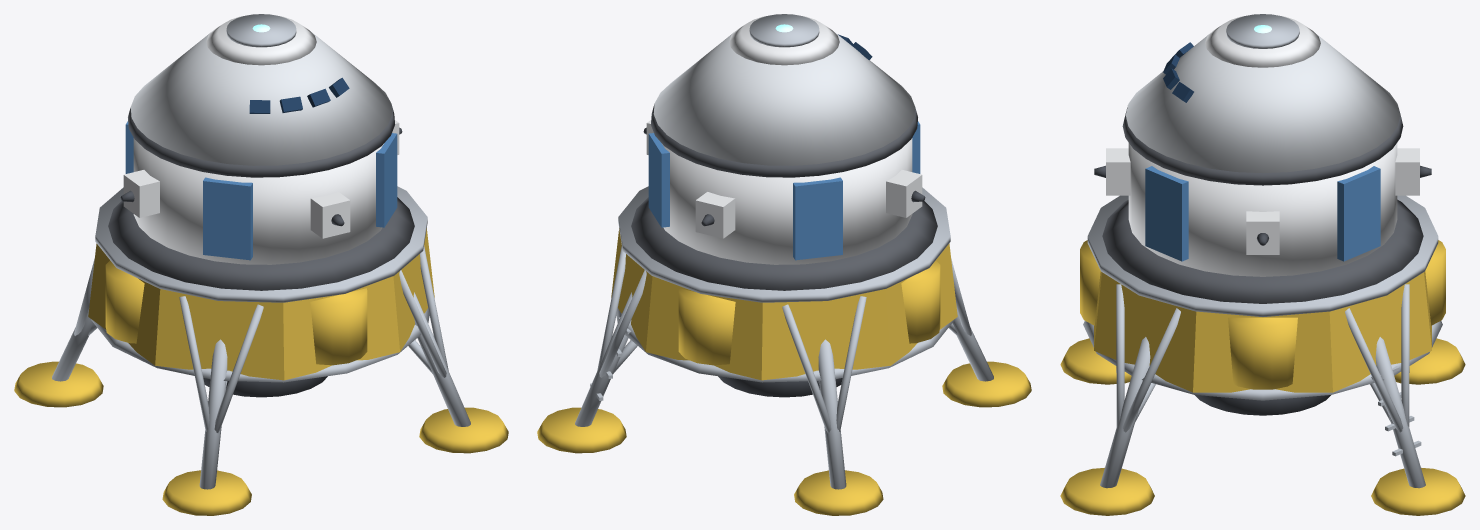
File: OrionLander.glb
3 views of the same model, side by side, from view 1: azimuth 30°, elevation 25°; view 2: azimuth 150°, elevation 25°; view 3: azimuth 270°, elevation 25° (orthographic). The views are drawn at different scales.
Parts seen in each view (by area): view 1: Orion_Crew_Module, Descent_Stage_Octagon, Orion_Service_Module, Orion_Descent_Adapter, Descent_Upper_Deck, Orion_ESM_Radiator_3, Descent_Propellant_Tank_4, Orion_Heatshield, Landing_Footpad_3, Landing_Footpad_4, Landing_Footpad_2, Orion_Forward_Bay (+14 smaller); view 2: Orion_Crew_Module, Descent_Stage_Octagon, Orion_Service_Module, Orion_Descent_Adapter, Descent_Upper_Deck, Orion_ESM_Radiator_2, Descent_Propellant_Tank_2, Orion_Heatshield, Landing_Footpad_2, Landing_Footpad_1, Landing_Footpad_3, Orion_Forward_Bay (+14 smaller); view 3: Orion_Crew_Module, Descent_Stage_Octagon, Orion_Service_Module, Orion_Descent_Adapter, Descent_Upper_Deck, Descent_Propellant_Tank_1, Orion_Heatshield, Orion_ESM_Radiator_1, Orion_ESM_Radiator_4, Landing_Footpad_1, Landing_Footpad_4, Orion_Forward_Bay (+16 smaller).
Part boxes in pixels (bbox=[...]): Orion_Crew_Module: bbox=[130, 31, 392, 165]; Descent_Stage_Octagon: bbox=[88, 228, 434, 380]; Orion_Service_Module: bbox=[133, 138, 383, 264]; Orion_Descent_Adapter: bbox=[108, 197, 414, 290]; Descent_Upper_Deck: bbox=[95, 186, 427, 302]; Orion_ESM_Radiator_3: bbox=[203, 177, 252, 260]; Descent_Propellant_Tank_4: bbox=[310, 288, 367, 365]; Orion_Heatshield: bbox=[128, 104, 394, 177]; Landing_Footpad_3: bbox=[162, 470, 251, 515]; Landing_Footpad_4: bbox=[419, 407, 508, 453]; Landing_Footpad_2: bbox=[14, 361, 103, 407]; Orion_Forward_Bay: bbox=[206, 16, 316, 65]; Orion_Crew_Module: bbox=[653, 31, 915, 165]; Descent_Stage_Octagon: bbox=[611, 228, 957, 380]; Orion_Service_Module: bbox=[662, 138, 912, 264]; Orion_Descent_Adapter: bbox=[631, 197, 937, 290]; Descent_Upper_Deck: bbox=[618, 186, 950, 302]; Orion_ESM_Radiator_2: bbox=[793, 177, 842, 260]; Descent_Propellant_Tank_2: bbox=[678, 288, 735, 365]; Orion_Heatshield: bbox=[651, 104, 917, 177]; Landing_Footpad_2: bbox=[794, 470, 883, 515]; Landing_Footpad_1: bbox=[537, 407, 626, 453]; Landing_Footpad_3: bbox=[942, 361, 1031, 407]; Orion_Forward_Bay: bbox=[729, 16, 839, 65]; Orion_Crew_Module: bbox=[1125, 33, 1400, 173]; Descent_Stage_Octagon: bbox=[1094, 271, 1431, 392]; Orion_Service_Module: bbox=[1128, 143, 1397, 276]; Orion_Descent_Adapter: bbox=[1102, 199, 1423, 303]; Descent_Upper_Deck: bbox=[1087, 195, 1438, 316]; Descent_Propellant_Tank_1: bbox=[1228, 317, 1297, 389]; Orion_Heatshield: bbox=[1122, 107, 1403, 185]; Orion_ESM_Radiator_1: bbox=[1337, 166, 1380, 261]; Orion_ESM_Radiator_4: bbox=[1145, 166, 1188, 261]; Landing_Footpad_1: bbox=[1371, 467, 1465, 515]; Landing_Footpad_4: bbox=[1060, 467, 1154, 515]; Orion_Forward_Bay: bbox=[1205, 16, 1320, 67].
Size of the model in its own units: 2.66 by 2.91 by 2.66.
